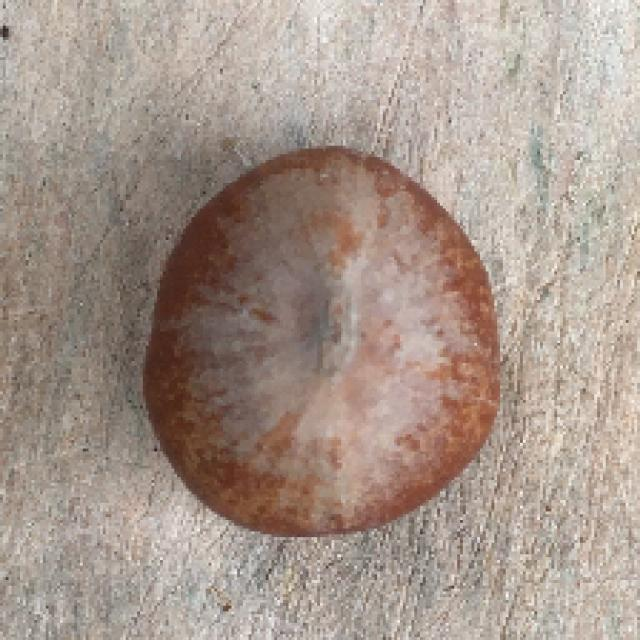qualityHazelnut: (139, 142, 505, 543)
